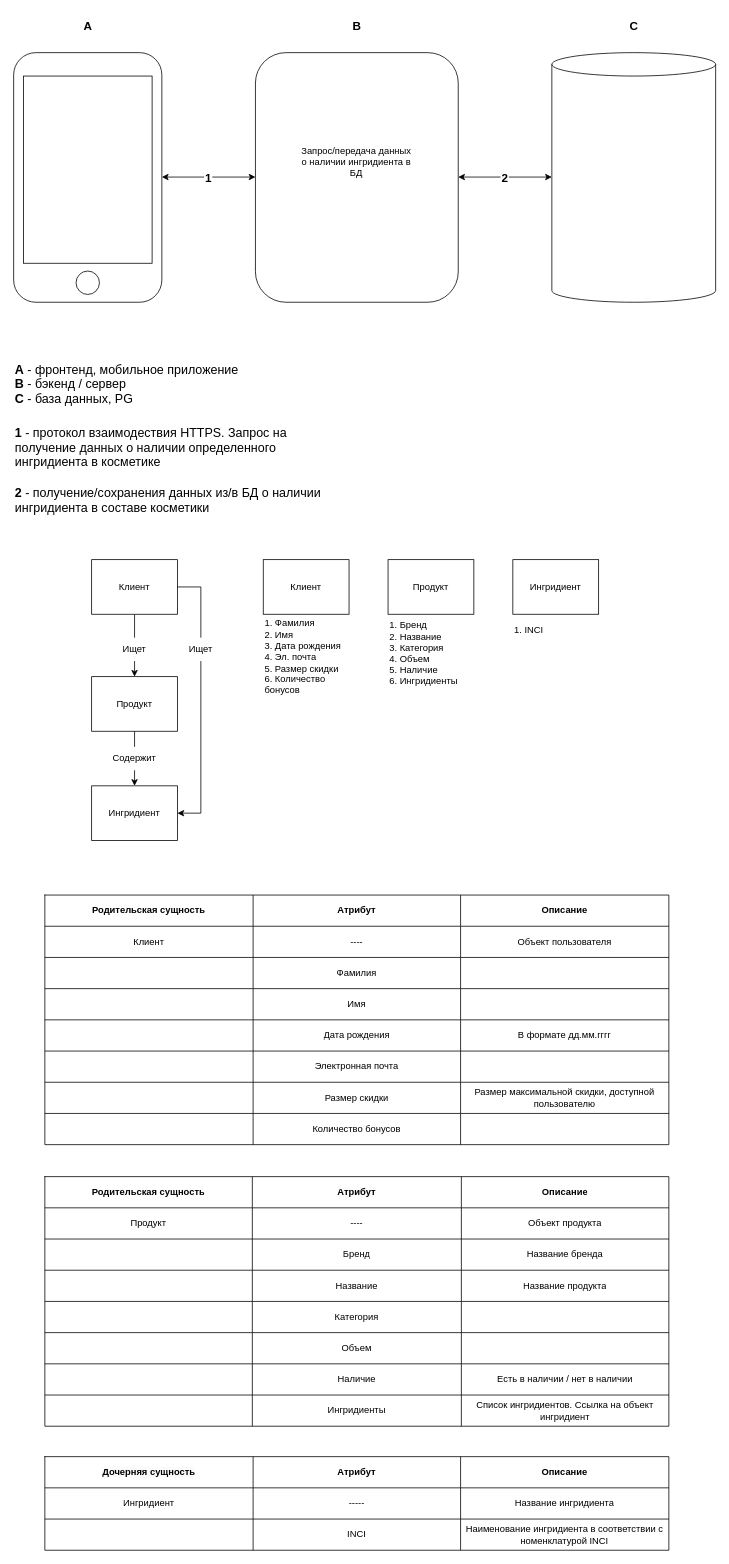
Some shapes in this 729 by 1564 pixel diagram are drawn without their labels. Each missing label, with the centre of its shape:
"Получение данных о наличии опреденного ингридиента в составе" belongs at [87,169].
"Хранение данных о косметических ингридиентах" belongs at [633,177].
